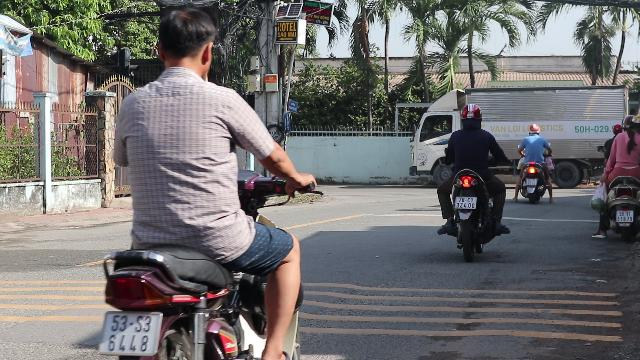helmet: (459, 104, 483, 128), (622, 114, 638, 132)
licenseplate: (100, 312, 160, 356), (456, 196, 476, 208), (616, 210, 634, 221)
motorcyclist: (90, 6, 322, 360), (432, 102, 511, 260), (589, 112, 639, 240)
nohelmet: (154, 8, 216, 80)
